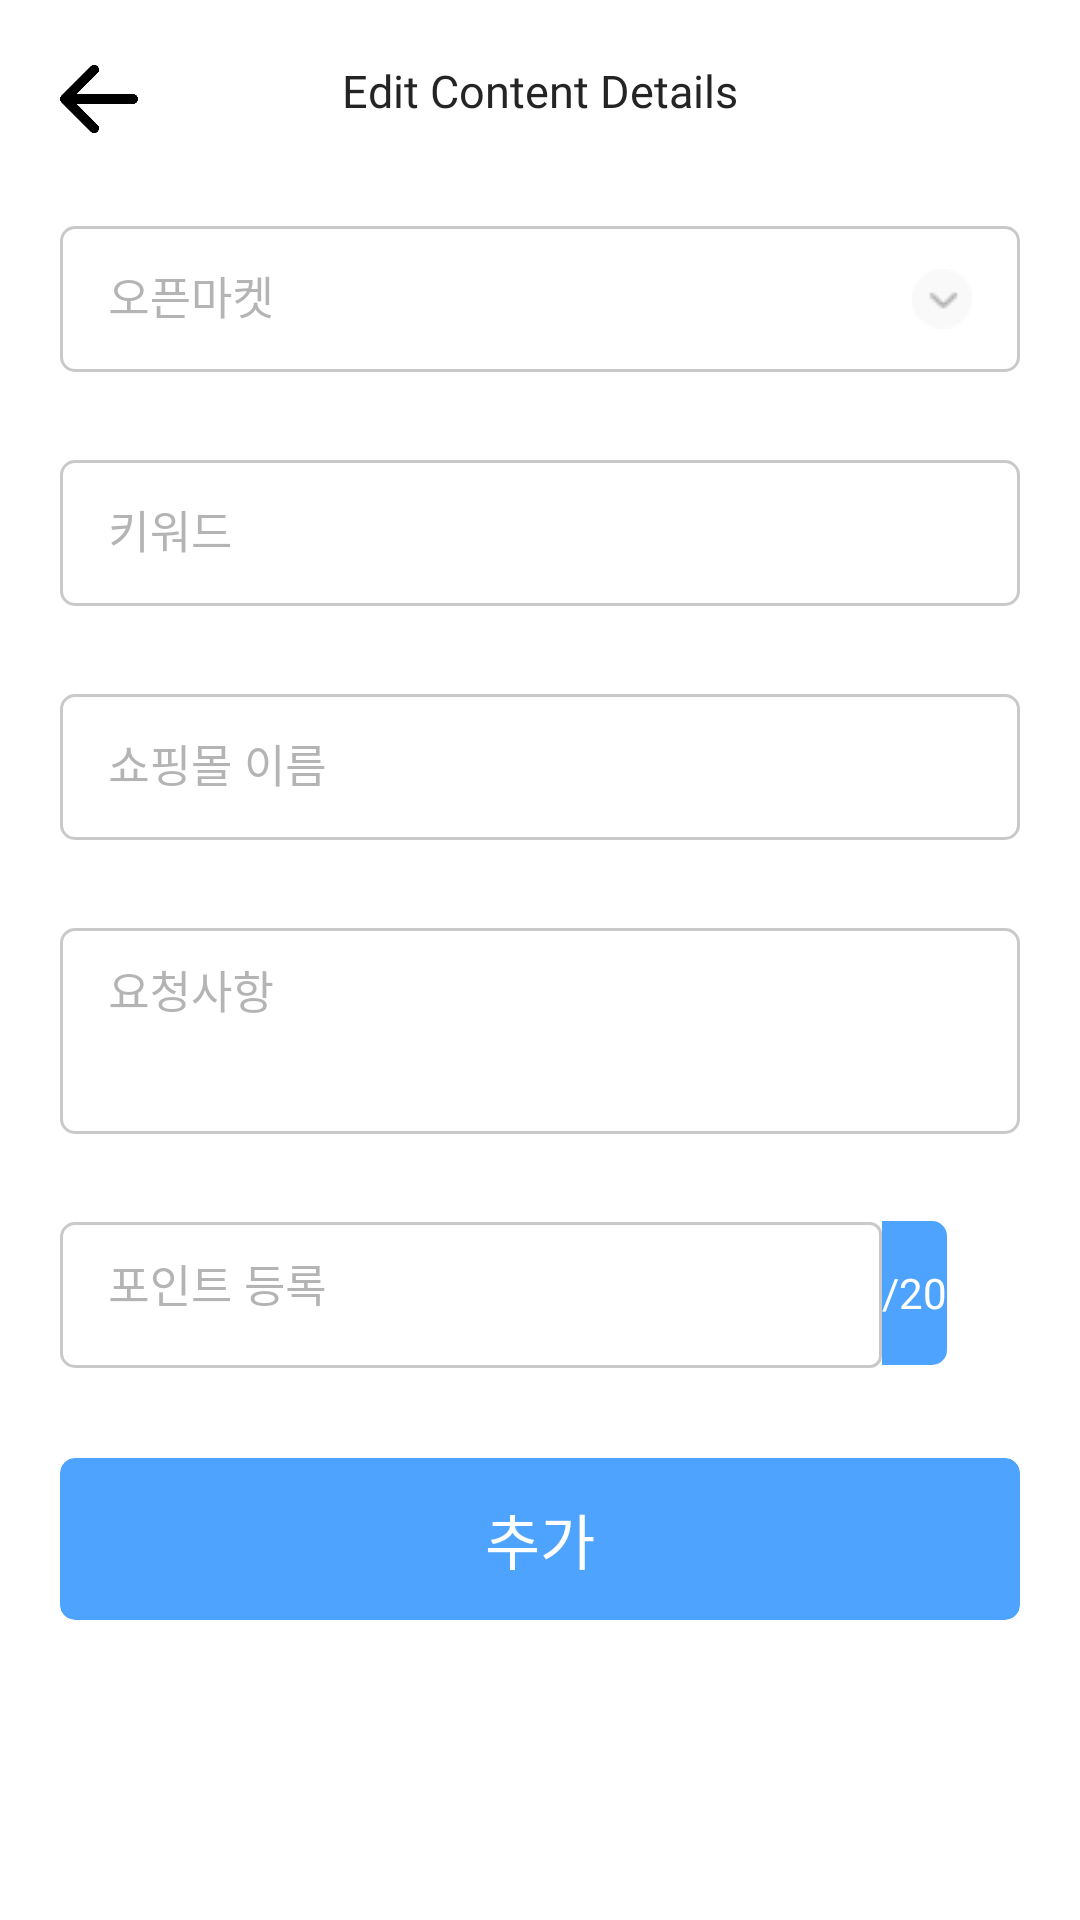

Icon click points for this 1080px×1920px phone screenshot, format (x=x, y=y):
back: (x=99, y=99)
